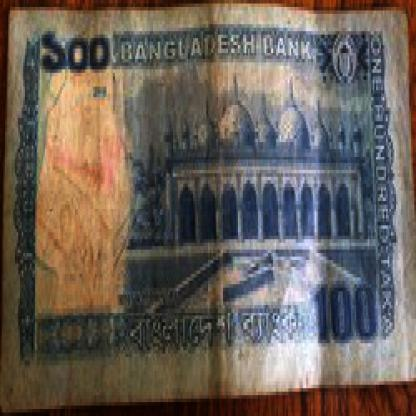one hundred taka: (311, 280, 378, 353), (35, 24, 110, 76)
